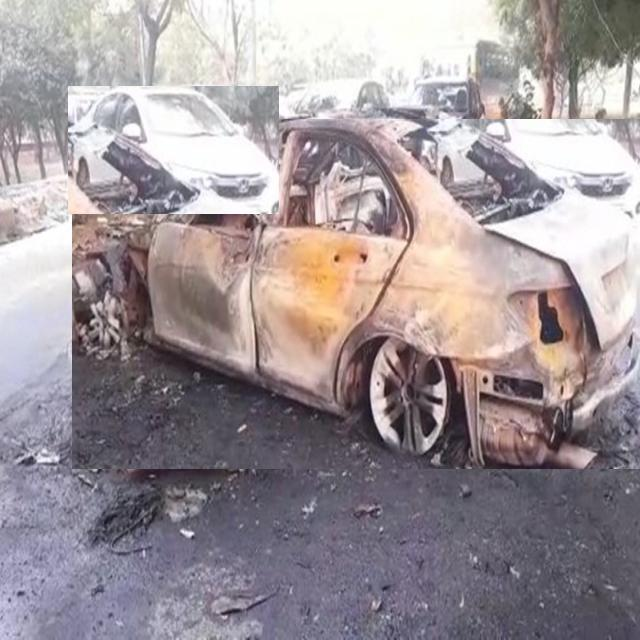accident: (72, 120, 640, 469)
car: (68, 86, 279, 214)
